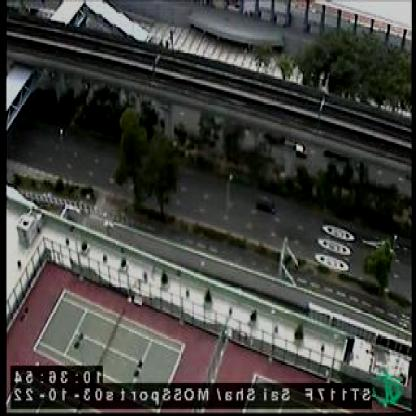Car: (258, 194, 276, 213)
